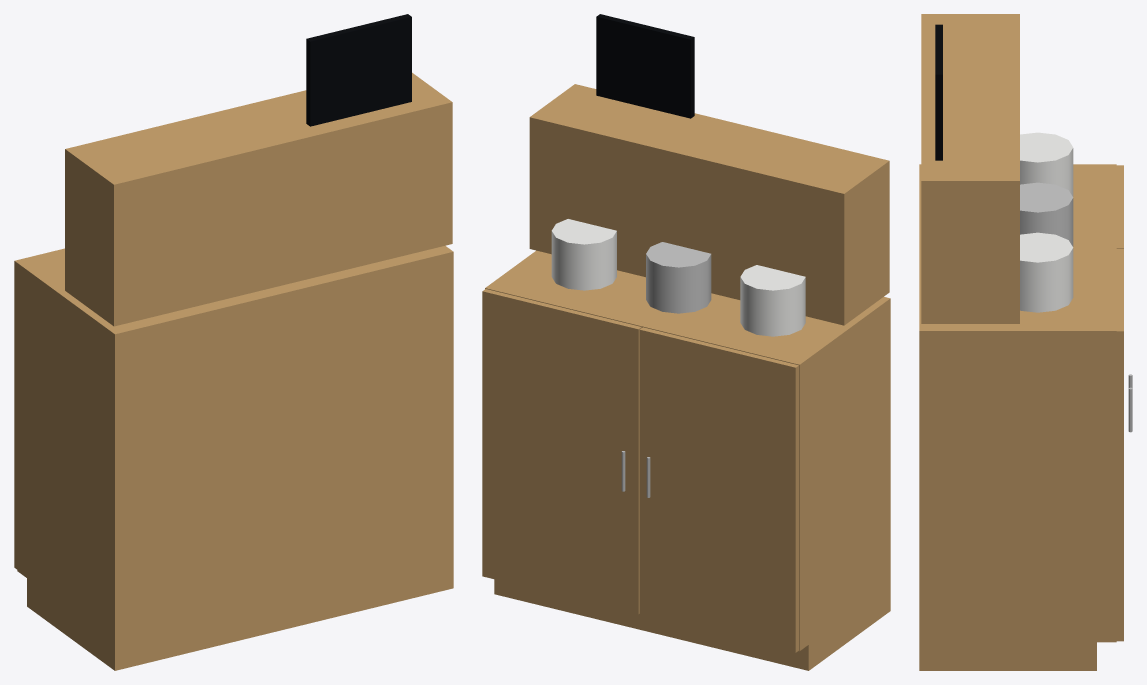
File: hospitality.restaurant.waiter_station.glb
3 views of the same model, side by side, from view 1: azimuth 30°, elevation 25°; view 2: azimuth 150°, elevation 25°; view 3: azimuth 270°, elevation 25° (orthographic). The views are drawn at different scales.
Visible parts, largest first — view 1: main__glulam, main__screen; view 2: main__glulam, main__ceramic, main__screen, main__steel_stainless; view 3: main__glulam, main__ceramic, main__steel_stainless, main__screen.
Part boxes in pixels (bbox=[...]): main__glulam: bbox=[14, 72, 453, 670]; main__screen: bbox=[306, 14, 411, 126]; main__glulam: bbox=[482, 84, 890, 670]; main__ceramic: bbox=[551, 219, 805, 336]; main__screen: bbox=[596, 14, 694, 118]; main__steel_stainless: bbox=[621, 242, 711, 497]; main__glulam: bbox=[919, 14, 1123, 670]; main__ceramic: bbox=[1020, 132, 1073, 312]; main__steel_stainless: bbox=[1020, 182, 1132, 432]; main__screen: bbox=[935, 24, 942, 160].
Size of the model in its own units: 1 by 1.62 by 0.54.
